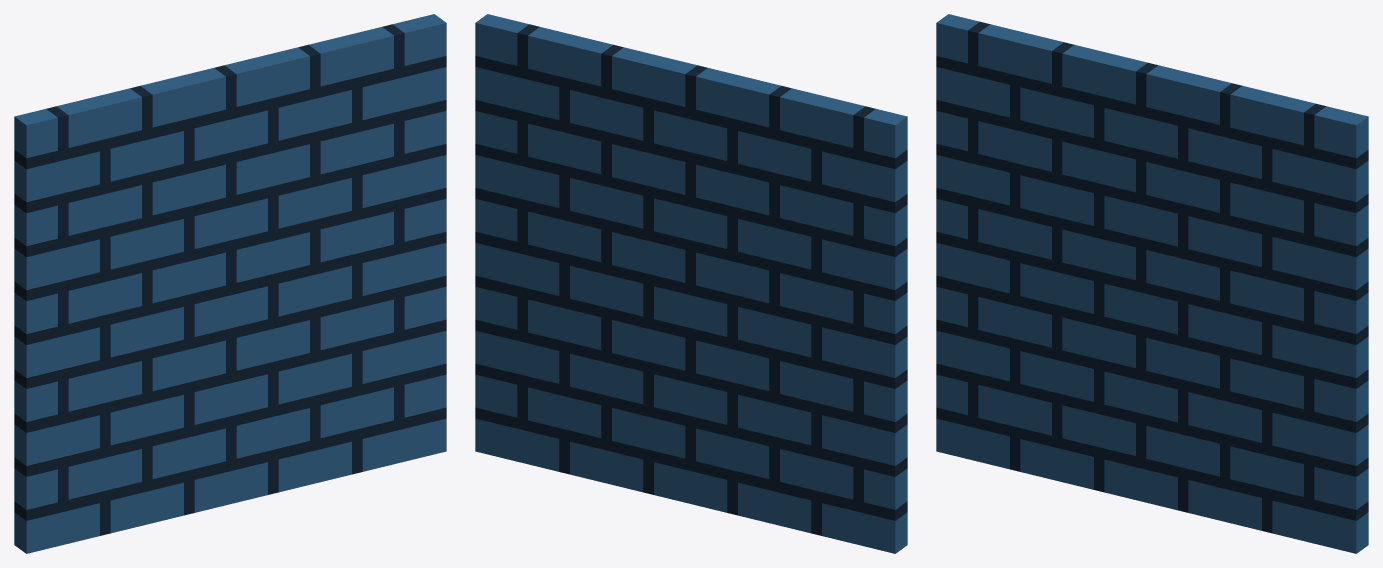
The model's file is ConstructionMaterials-52.obj.
The picture shows the model from 3 angles, left to right: view 1: azimuth 30°, elevation 25°; view 2: azimuth 150°, elevation 25°; view 3: azimuth 330°, elevation 25°; orthographic projection.
Size of the model in its own units: 4 by 3.9 by 0.2.
1 material, 1 textured.
